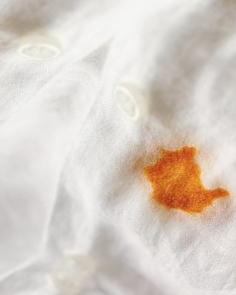stain: (139, 136, 232, 224)
